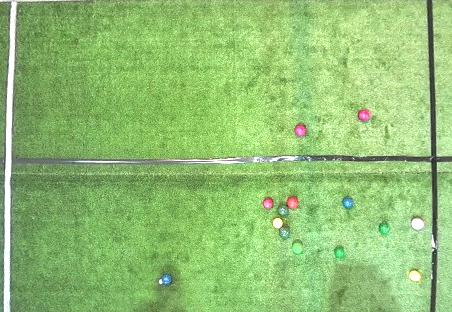blue: (162, 274, 173, 286), (342, 197, 353, 209)
green: (291, 242, 303, 254), (278, 205, 289, 216), (334, 247, 345, 258), (279, 227, 289, 239), (379, 223, 389, 234)
red: (411, 217, 424, 230), (287, 196, 299, 210), (294, 125, 307, 137), (358, 110, 370, 122), (263, 198, 274, 210)
vline: (426, 0, 451, 311), (0, 0, 19, 311)
white: (159, 279, 163, 284)
yellow: (409, 270, 421, 281), (272, 218, 283, 229)
